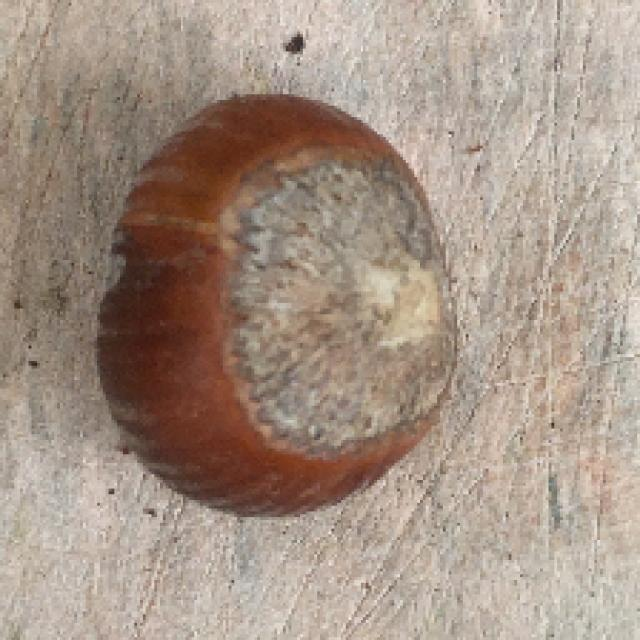damagedHazelnut: (86, 86, 469, 518)
